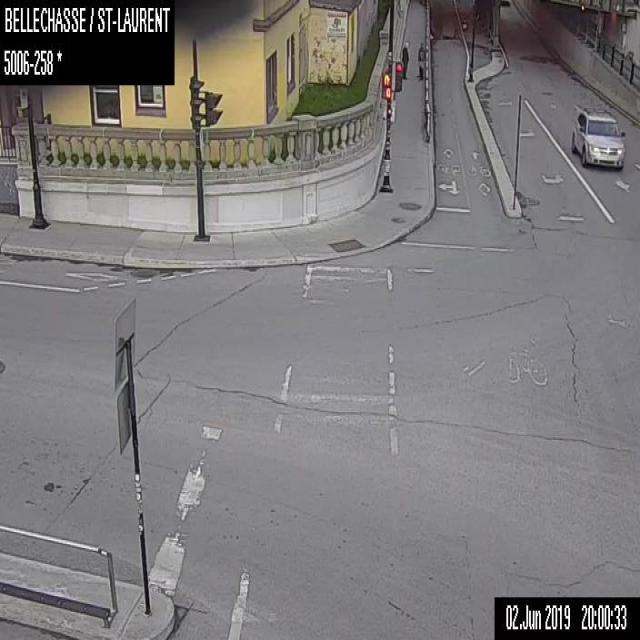pedestrian: (417, 41, 424, 79), (401, 41, 408, 79)
vehicle: (570, 106, 624, 170)
